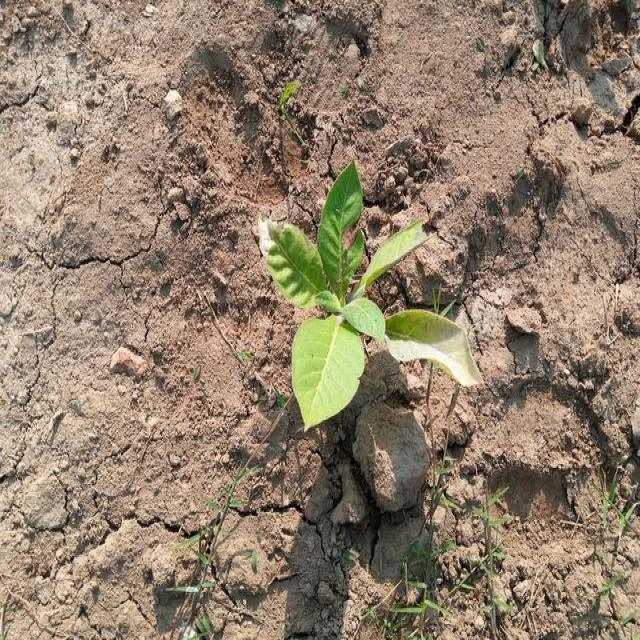crop: (274, 182, 467, 418)
